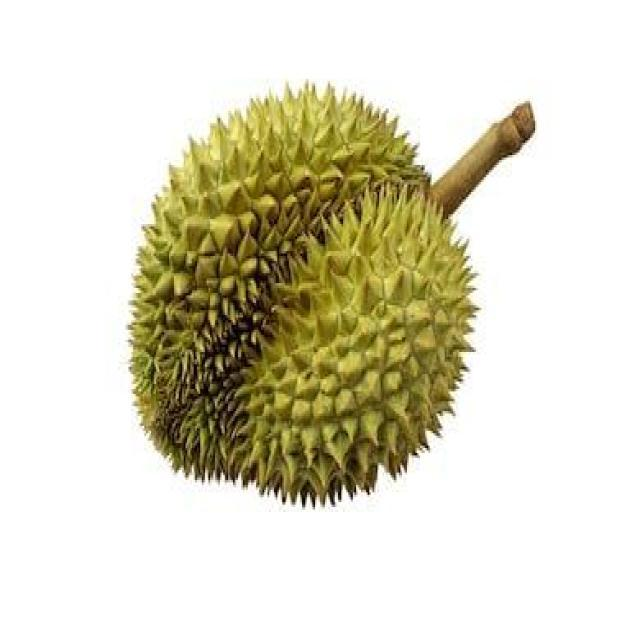immature: (126, 85, 479, 503)
